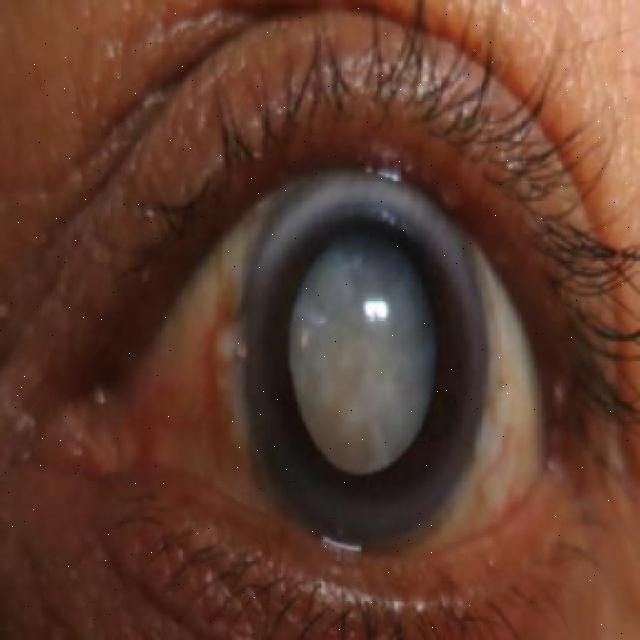Cataract: (237, 167, 489, 548)
